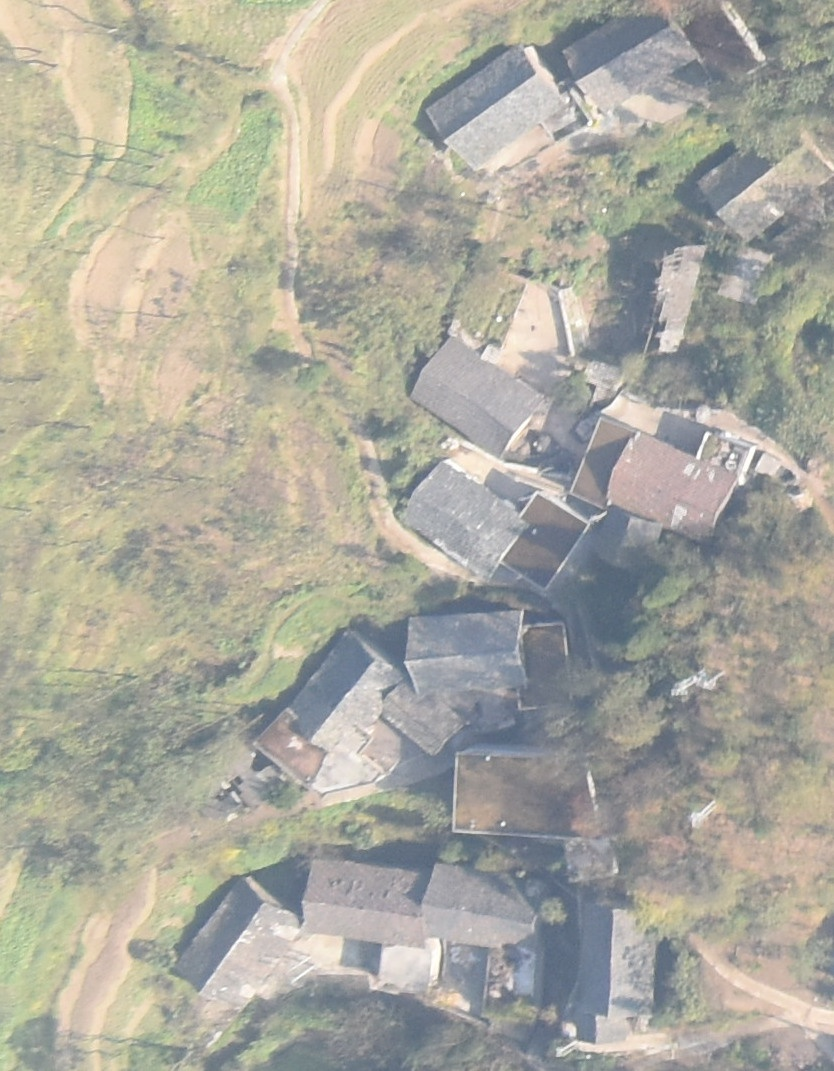building: (423, 43, 569, 170), (696, 115, 833, 241), (177, 877, 302, 1008), (409, 337, 545, 457), (454, 742, 614, 841), (606, 432, 742, 545), (562, 6, 701, 114), (403, 459, 527, 580), (294, 628, 402, 754), (301, 857, 433, 949), (422, 861, 549, 952), (403, 610, 531, 692), (499, 492, 590, 589), (580, 907, 658, 1016), (380, 677, 468, 759), (252, 705, 328, 788), (571, 418, 638, 511), (516, 621, 576, 709), (695, 430, 756, 485), (380, 937, 438, 992), (560, 837, 622, 883), (565, 1001, 631, 1044)
